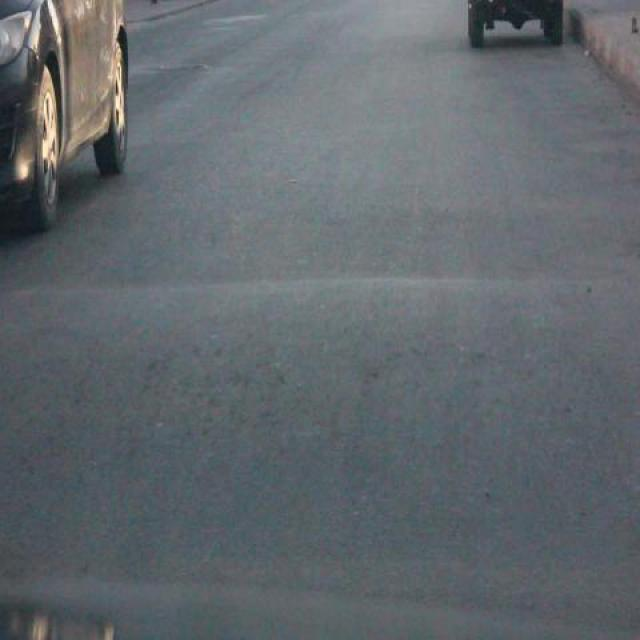Unmarked Bump: (1, 286, 640, 621)
